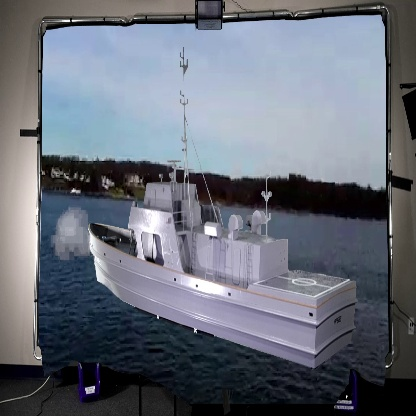YP689: (87, 54, 356, 372)
